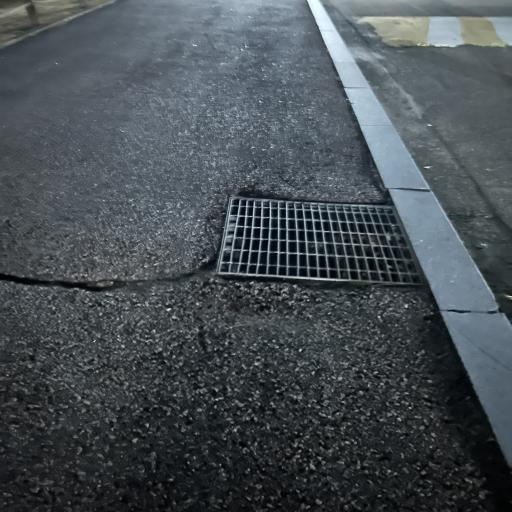drain: (217, 197, 422, 284)
